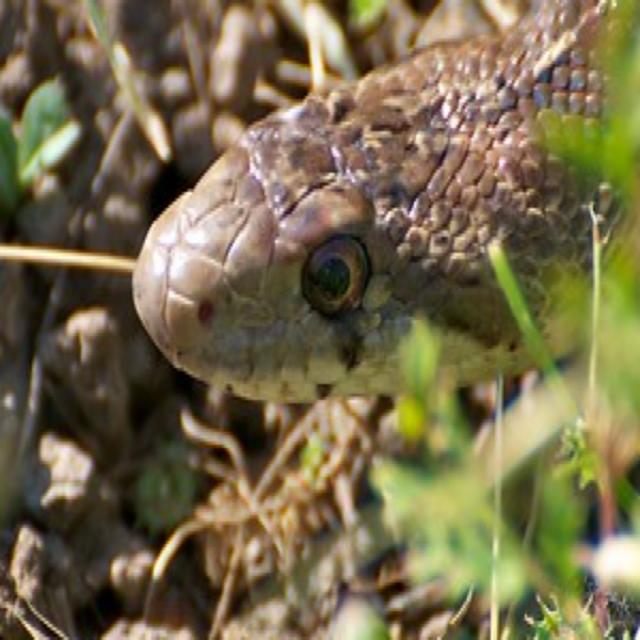snake: (128, 0, 640, 413)
